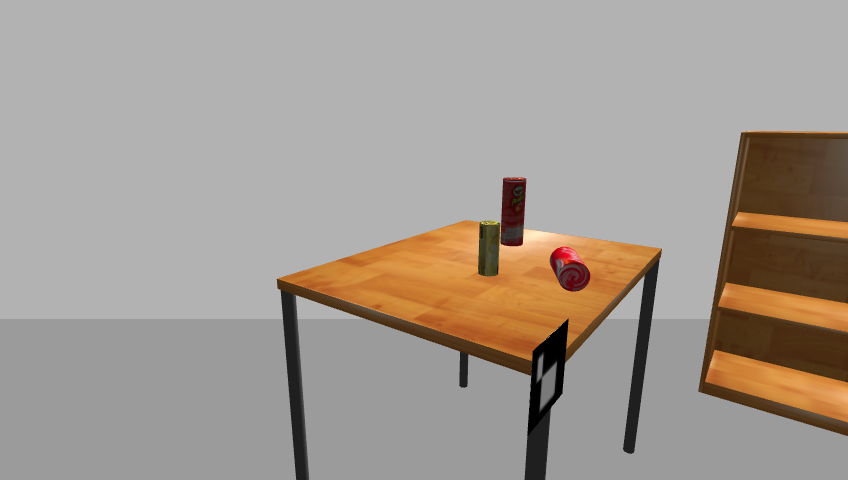aruco marker: (526, 320, 571, 440)
biscuits pack: (478, 220, 500, 278)
bookshelf: (695, 130, 848, 452)
coke can: (548, 247, 591, 292)
dinner table: (269, 220, 671, 480)
pringles can: (500, 177, 528, 249)
